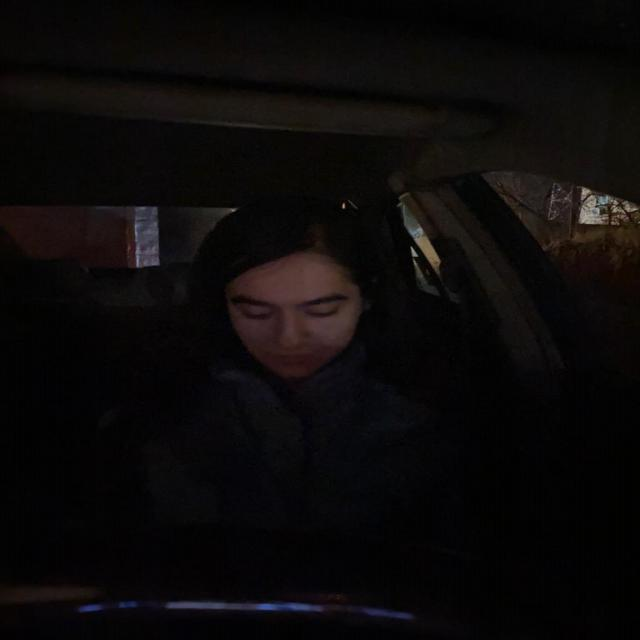drowsy: (196, 202, 378, 389)
